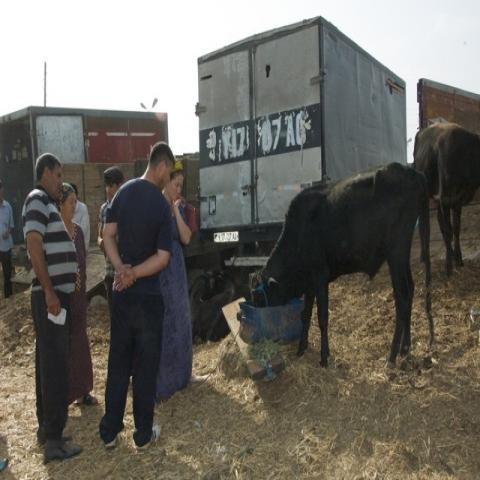truck: (197, 15, 408, 248), (61, 154, 221, 320), (1, 103, 171, 243)
